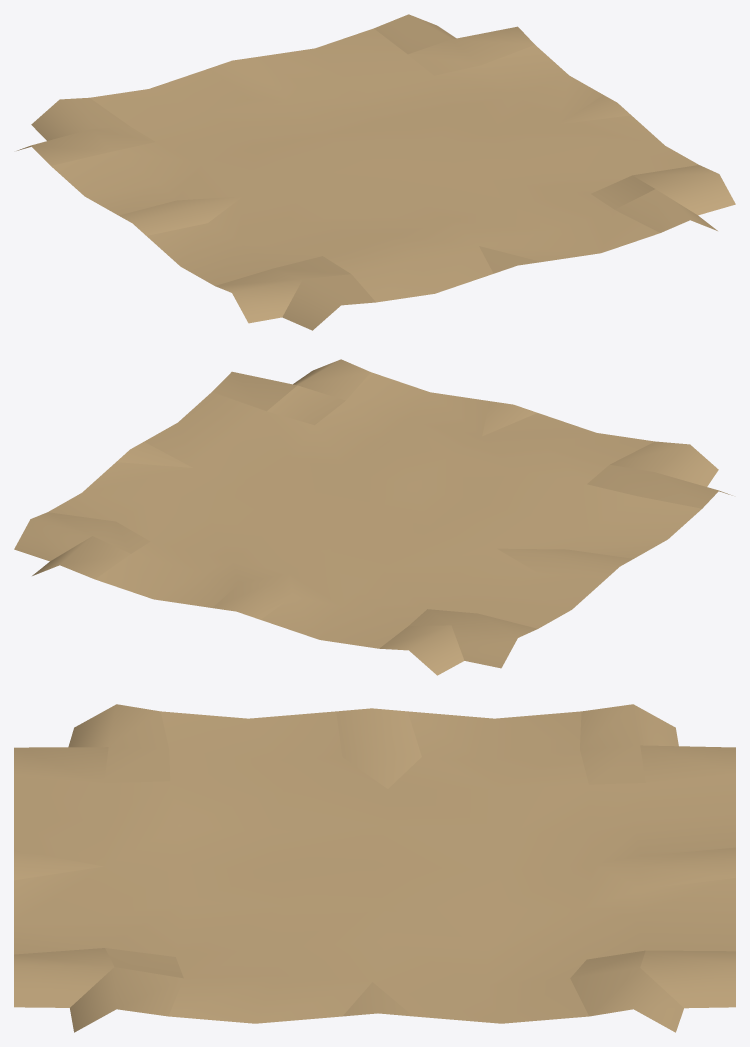
Rendered from Building_mode_L1_Roadcross002.fbx.
3 views of the same model, one above another, from view 1: azimuth 30°, elevation 25°; view 2: azimuth 150°, elevation 25°; view 3: azimuth 270°, elevation 25° (orthographic). The views are drawn at different scales.
Parts seen in each view (by area): view 1: Building_mode_L1_Roadcross002; view 2: Building_mode_L1_Roadcross002; view 3: Building_mode_L1_Roadcross002.
Part boxes in pixels (x1,y1,x2,y2): Building_mode_L1_Roadcross002: (17, 14, 735, 330); Building_mode_L1_Roadcross002: (14, 359, 732, 675); Building_mode_L1_Roadcross002: (14, 704, 735, 1032).
Size of the model in its own units: 3 by 0.116 by 3.
